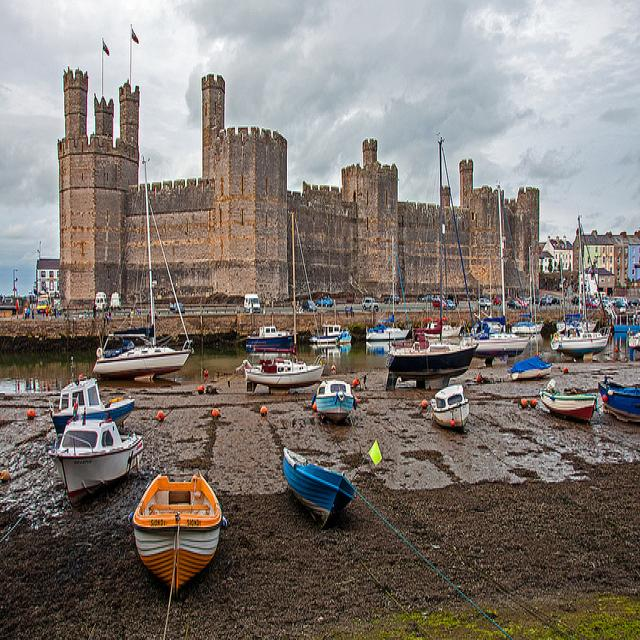Vehicle: (244, 292, 260, 313), (361, 300, 379, 312), (432, 299, 449, 310), (506, 299, 522, 310), (478, 298, 492, 310), (384, 293, 399, 304), (174, 302, 186, 314), (307, 300, 317, 312), (444, 299, 454, 308)
